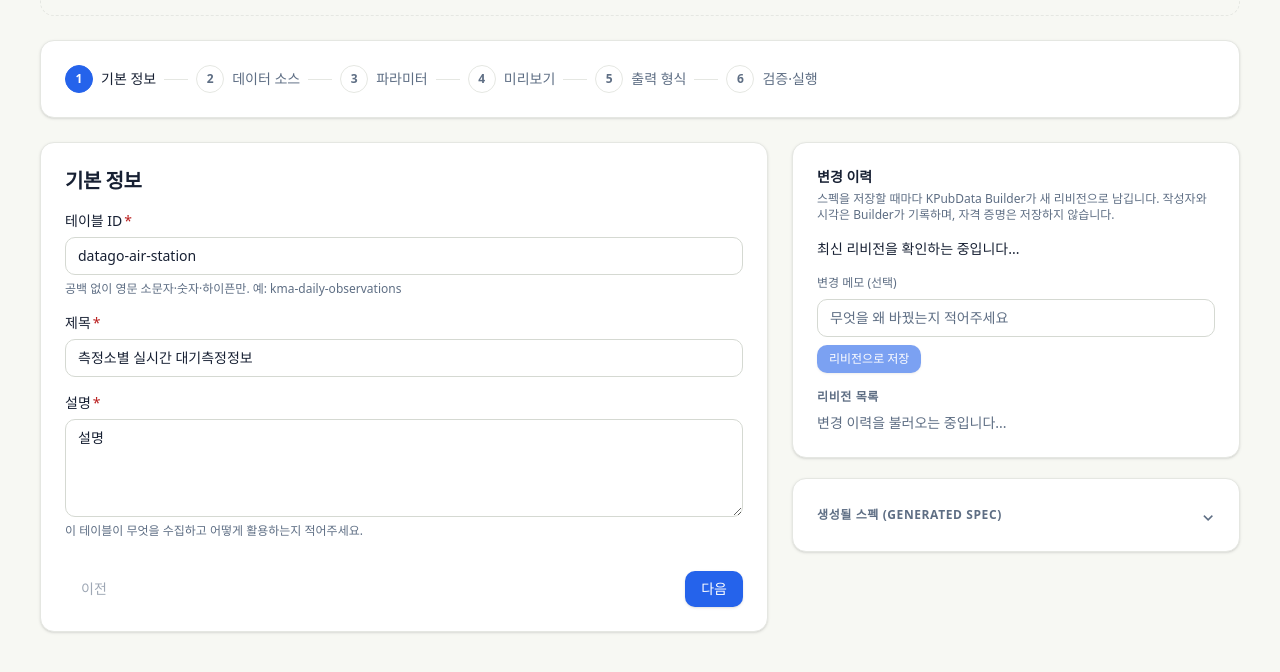
Test: the output path Builder would refuse (kpubdata-builder#1320) › stays on the output step and says why, for a path that leaves the run's folder
(page scrolled)
expect the heading "기본 정보" is shown: met, box [65, 167, 141, 194]
Click the button "다음" at (714, 589), box [685, 571, 743, 607]
(page scrolled)
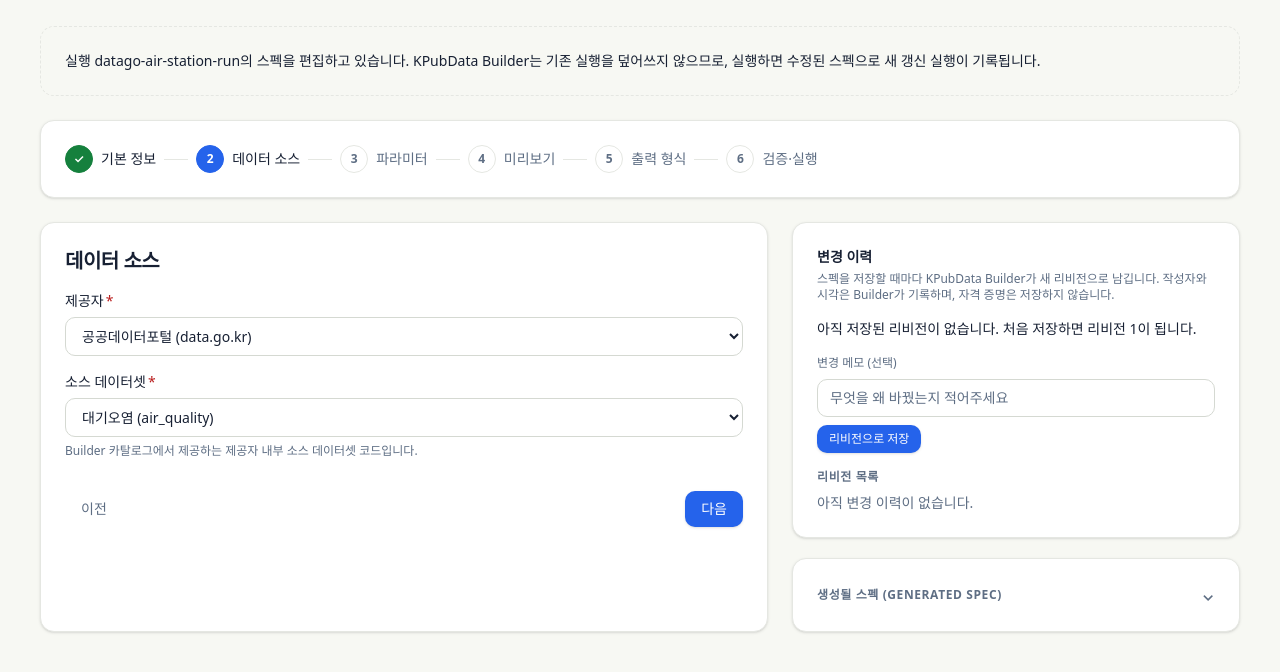
expect the heading "데이터 소스" is shown: met, box [65, 247, 159, 274]
Click the button "다음" at (714, 509), box [685, 491, 743, 527]
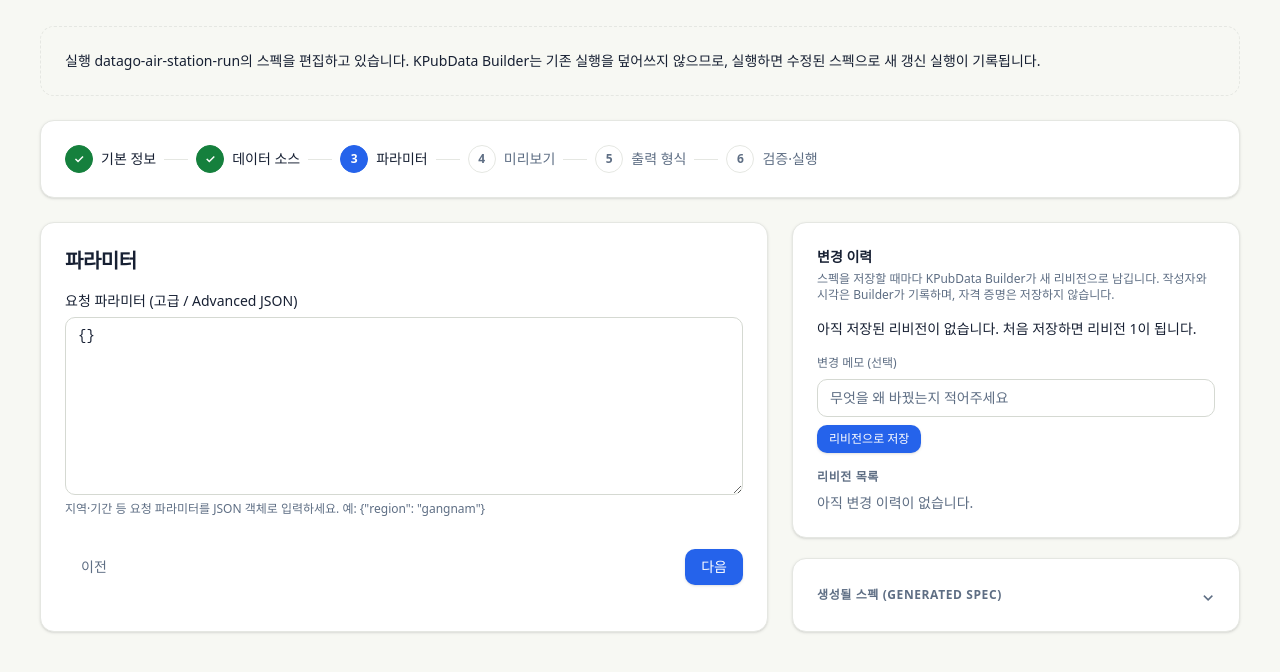
expect the heading "파라미터" is shown: met, box [65, 247, 137, 274]
Click the button "다음" at (714, 567), box [685, 549, 743, 585]
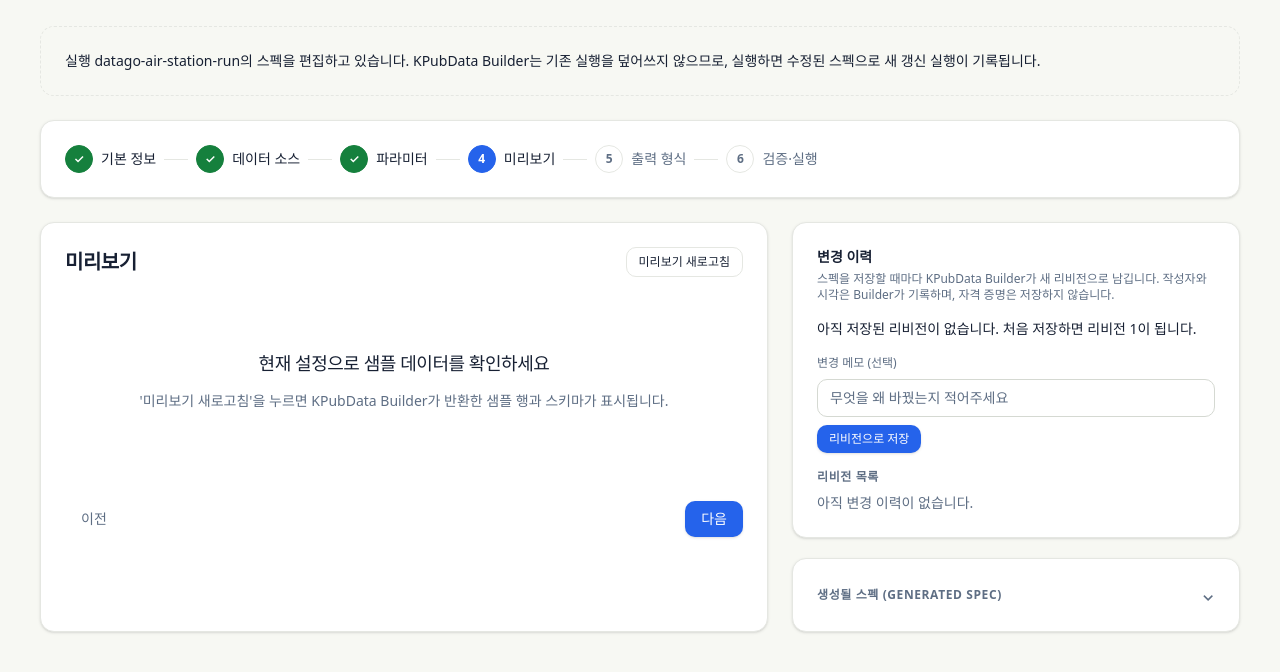
expect the heading "미리보기" is shown: met, box [65, 248, 137, 276]
Click the button "다음" at (714, 519), box [685, 501, 743, 537]
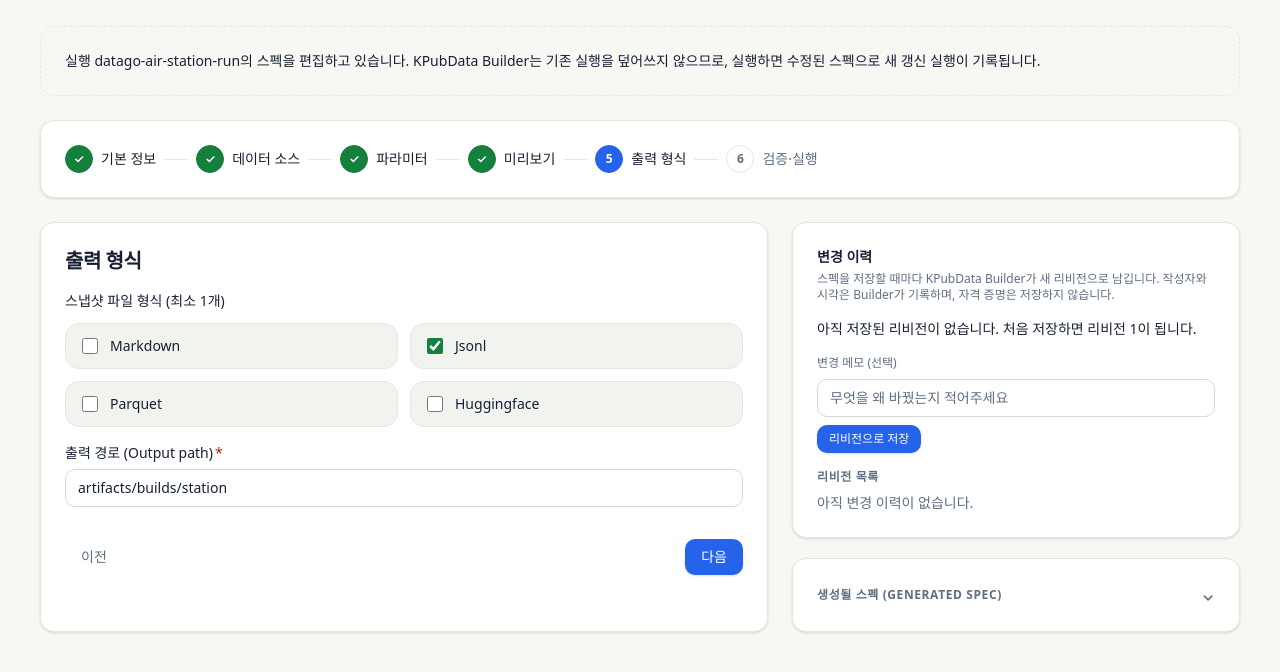
expect the heading "출력 형식" is shown: met, box [65, 247, 141, 274]
Replace the text in the field labelled "출력 경로 (Output path)*" with "../station" at (404, 488), box [65, 469, 743, 507]
(page scrolled)
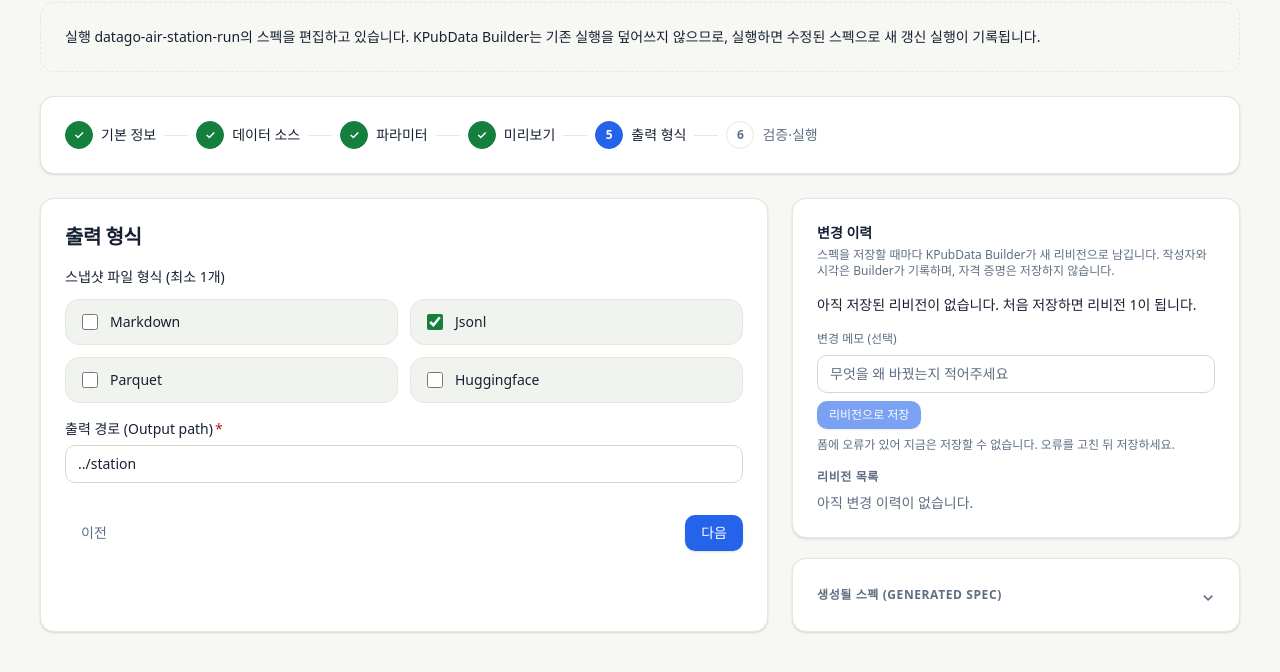
Click the button "다음" at (714, 533), box [685, 515, 743, 551]
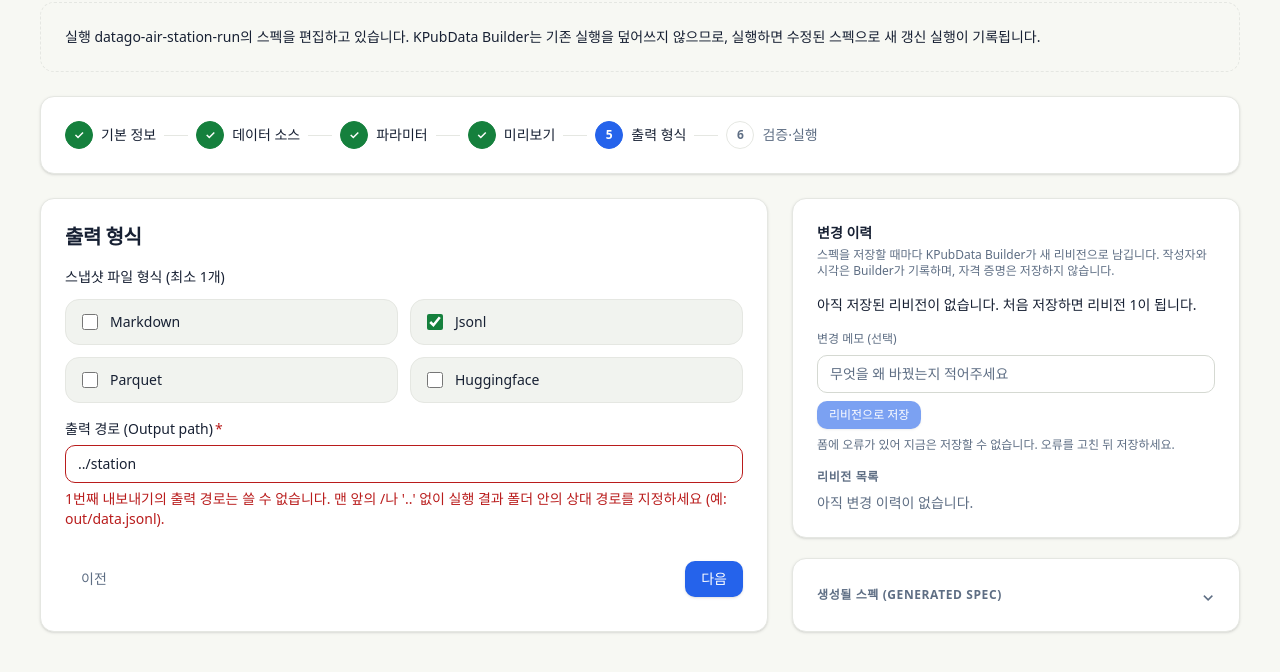
expect the text "1번째 내보내기의 출력 경로는 쓸 수 없습니다" is shown: met, box [65, 489, 727, 528]
